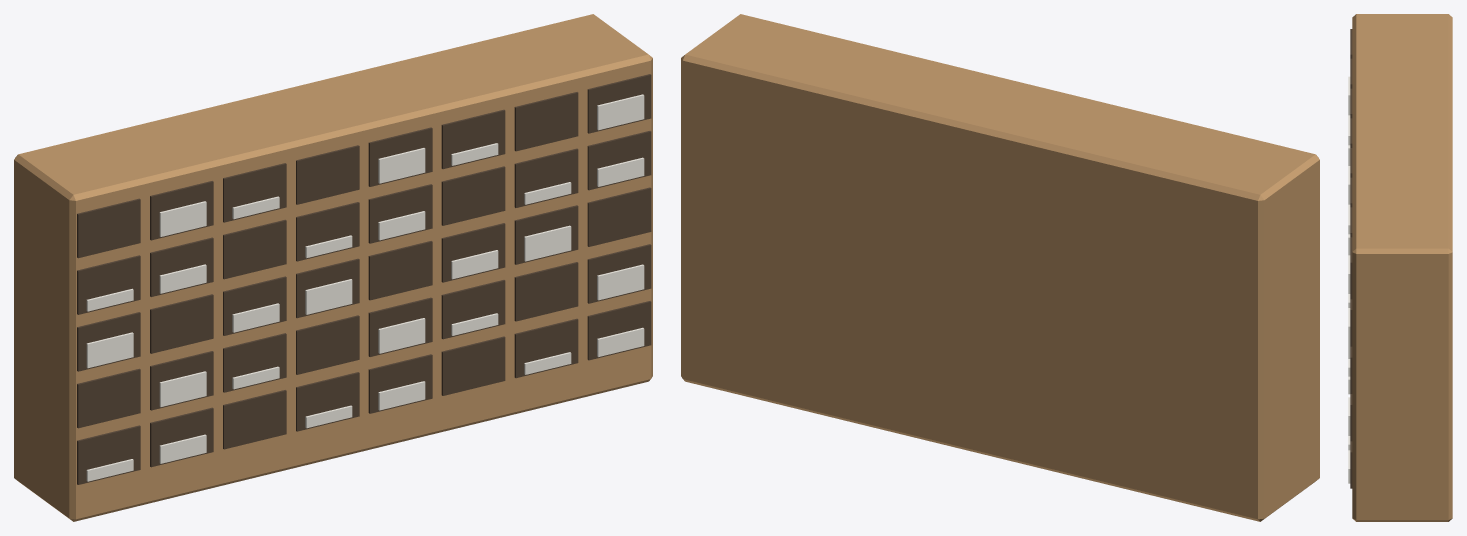
Rendered from mail_slots.glb.
The picture shows the model from 3 angles, left to right: view 1: azimuth 30°, elevation 25°; view 2: azimuth 150°, elevation 25°; view 3: azimuth 270°, elevation 25°; orthographic projection. The views are drawn at different scales.
Parts seen in each view (by area): view 1: mail_slots_mesh; view 2: mail_slots_mesh; view 3: mail_slots_mesh.
Boxes of the visible parts, left/top/right/bottom form: mail_slots_mesh: left=14, top=14, right=652, bottom=521; mail_slots_mesh: left=681, top=14, right=1319, bottom=521; mail_slots_mesh: left=1348, top=14, right=1452, bottom=521.
Bounding box in the file's own units: 2.8 × 1.5 × 0.52.
